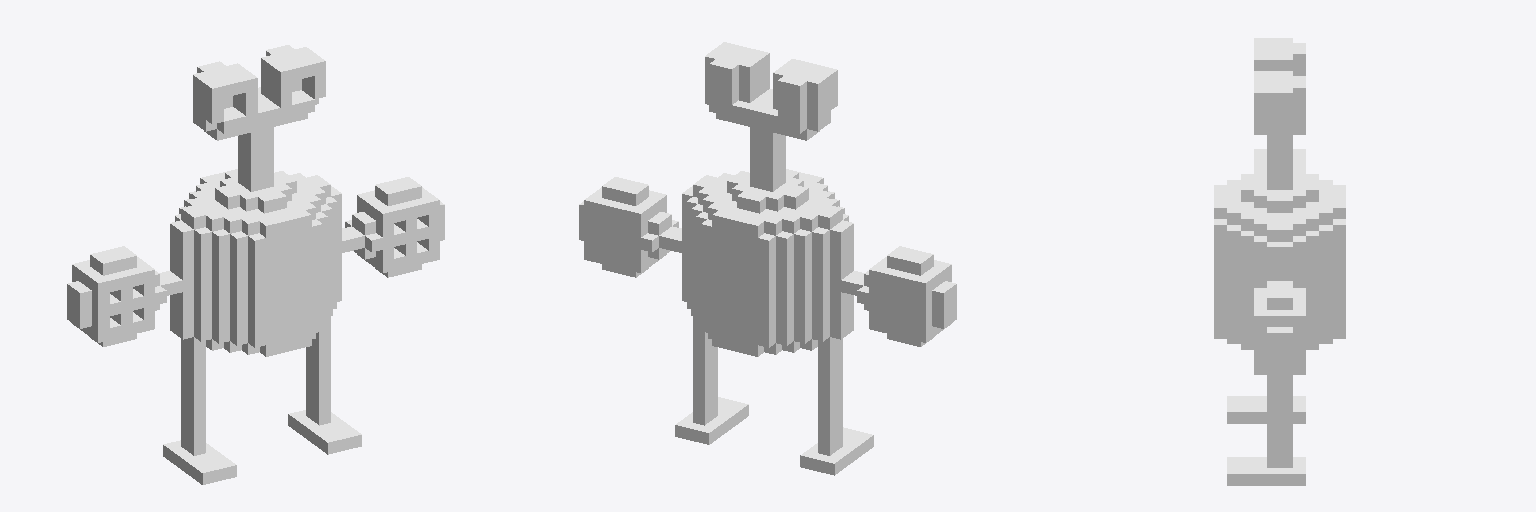
Rendered from smallbot1.obj.
The picture shows the model from 3 angles: view 1: azimuth 30°, elevation 25°; view 2: azimuth 150°, elevation 25°; view 3: azimuth 270°, elevation 25°; orthographic projection.
Parts seen in each view (by area): view 1: smallbot1; view 2: smallbot1; view 3: smallbot1.
Part boxes in pixels (x1,y1,x2,y2): smallbot1: (67,45,444,484); smallbot1: (579,42,956,475); smallbot1: (1214,38,1345,485).
Size of the model in its own units: 32 by 32 by 10.